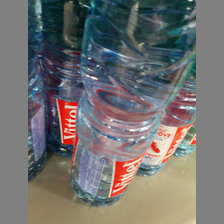water: (69, 1, 194, 208)
